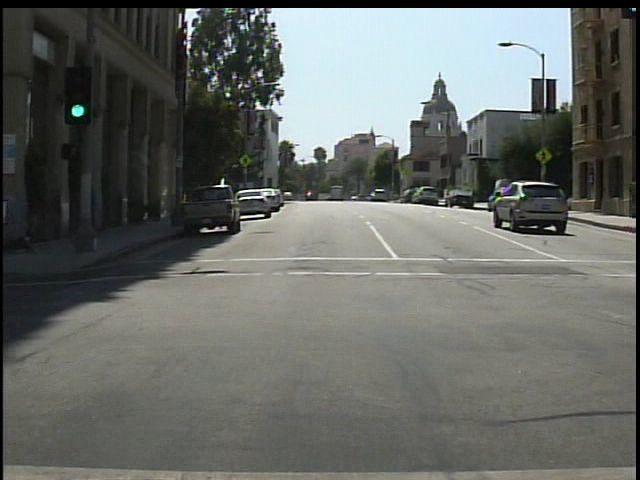person: (3, 161, 11, 265)
